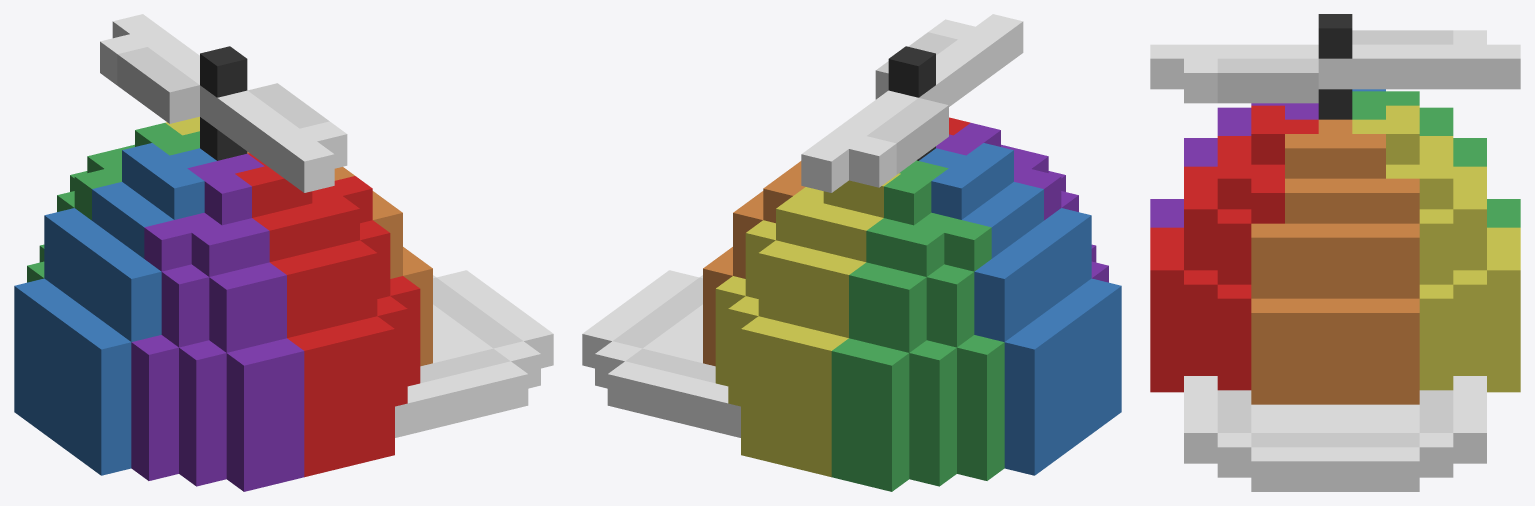
File: propeller-hat.glb
3 views of the same model, side by side, from view 1: azimuth 30°, elevation 25°; view 2: azimuth 150°, elevation 25°; view 3: azimuth 270°, elevation 25° (orthographic). The views are drawn at different scales.
Visible parts, largest first — view 1: propeller-hat.vox; view 2: propeller-hat.vox; view 3: propeller-hat.vox.
Part boxes in pixels (x1,y1,x2,y2): propeller-hat.vox: [14, 14, 553, 491]; propeller-hat.vox: [582, 14, 1121, 491]; propeller-hat.vox: [1150, 14, 1520, 491].
Bounding box in the file's own units: 1.5 × 1.1 × 1.1.
1 material, 1 textured.
